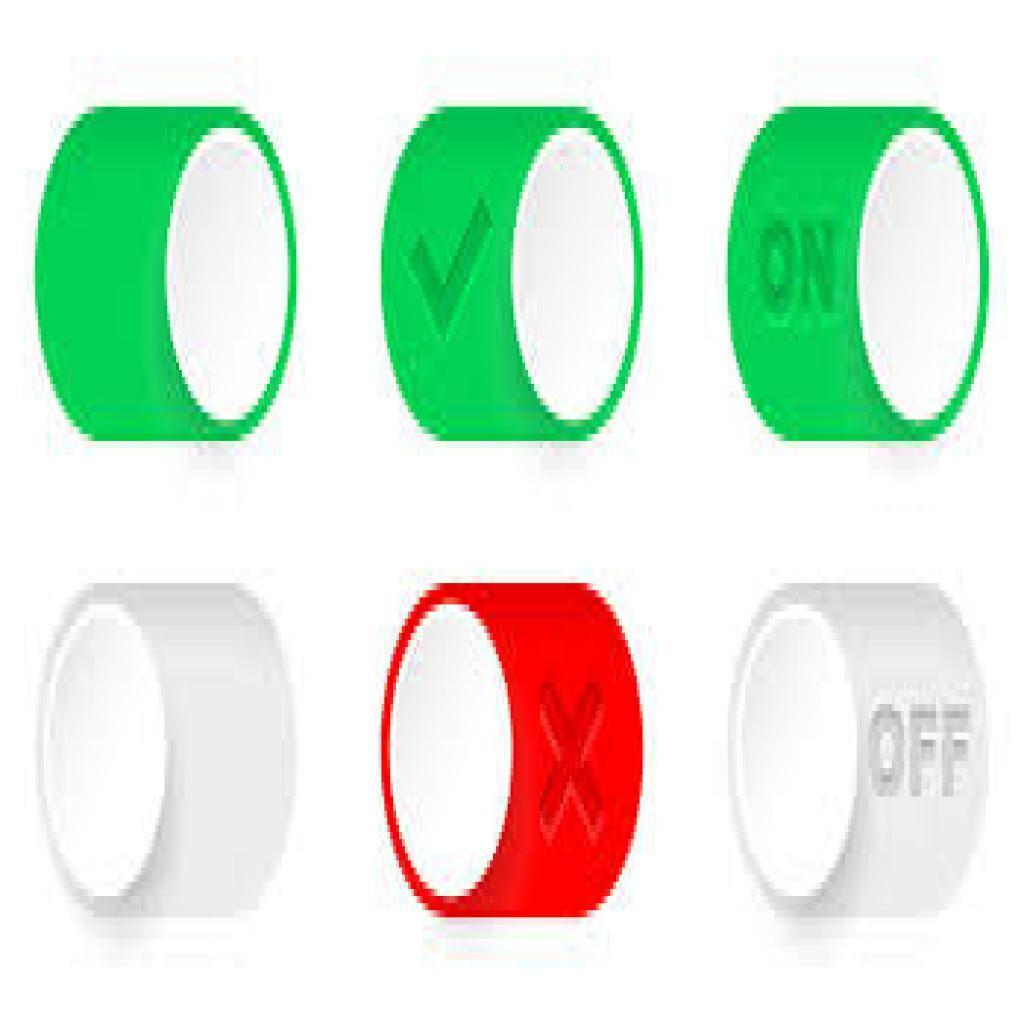switch: (369, 106, 645, 444), (35, 582, 304, 926), (31, 107, 300, 446), (732, 584, 996, 928), (723, 108, 991, 443), (380, 583, 647, 919)
